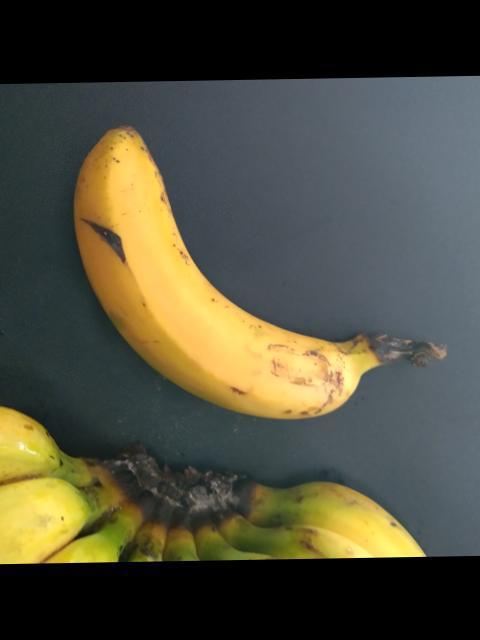ripe: (66, 122, 422, 441)
